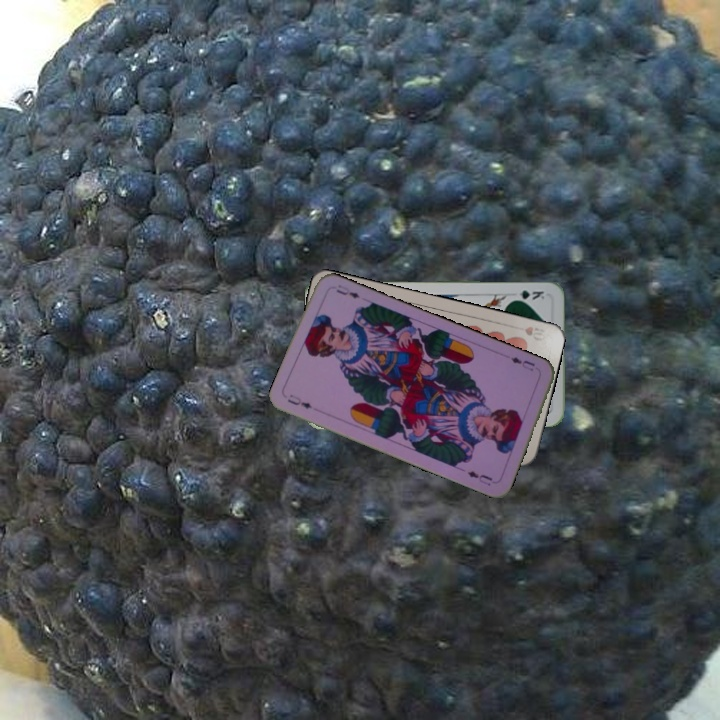EU: (283, 390, 315, 411), (506, 353, 537, 374)
GK: (508, 286, 547, 303)
H10: (521, 322, 549, 344)
